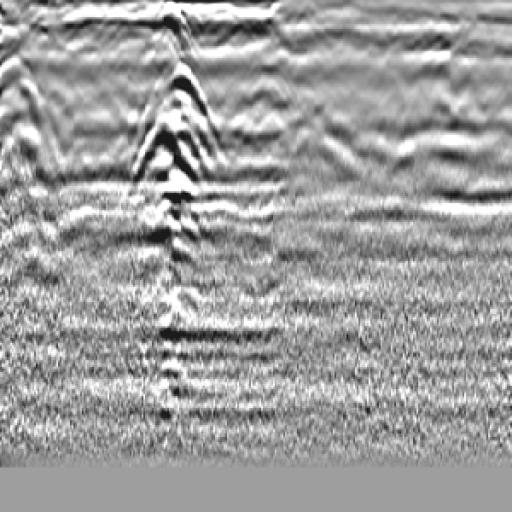metalic: (132, 30, 231, 372)
nonmetalic: (215, 59, 311, 187), (1, 39, 74, 196)
